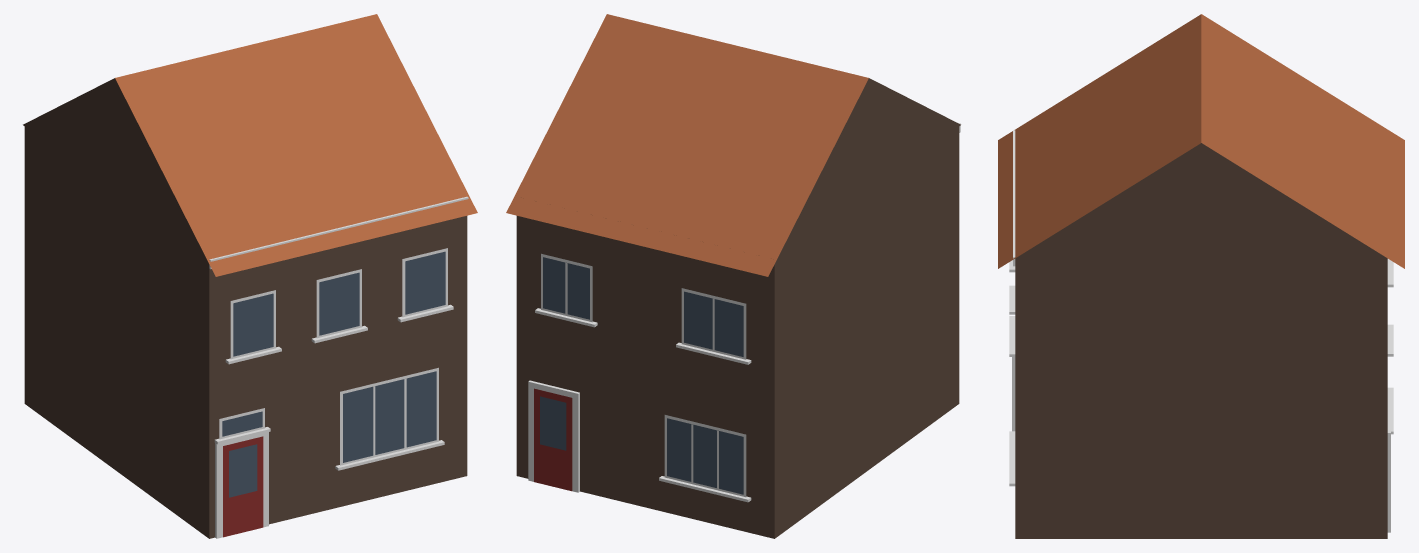
Rendered from nd-to-row__triple-orange__2__gable__long__solid__f1d0.glb.
The picture shows the model from 3 angles, left to right: view 1: azimuth 30°, elevation 25°; view 2: azimuth 150°, elevation 25°; view 3: azimuth 270°, elevation 25°; orthographic projection.
Visible parts, largest first — view 1: nd-to-row__triple-orange__2__gable__long__solid__f1d0; view 2: nd-to-row__triple-orange__2__gable__long__solid__f1d0; view 3: nd-to-row__triple-orange__2__gable__long__solid__f1d0.
Boxes of the visible parts, x1,y1,x2,y2 form: nd-to-row__triple-orange__2__gable__long__solid__f1d0: [23, 14, 477, 538]; nd-to-row__triple-orange__2__gable__long__solid__f1d0: [506, 14, 960, 538]; nd-to-row__triple-orange__2__gable__long__solid__f1d0: [998, 14, 1404, 538].
Size of the model in its own units: 6.16 by 8.85 by 8.21.
